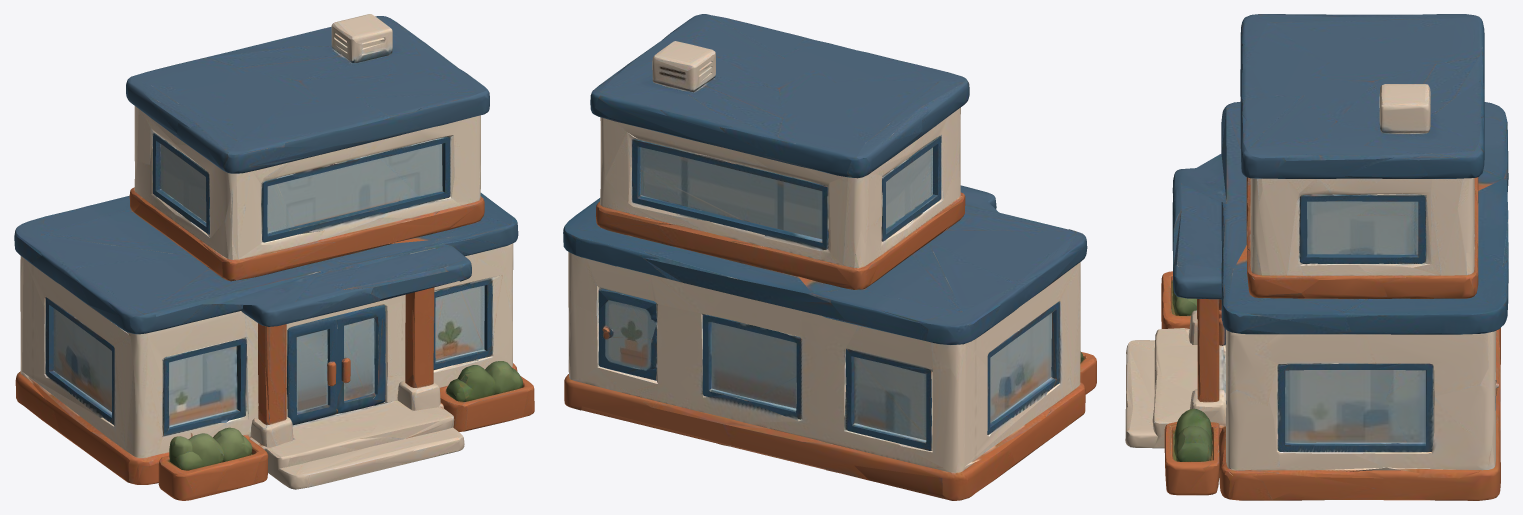
Rendered from realtyDuplex.glb.
3 renders of one model, left to right at view 1: azimuth 30°, elevation 25°; view 2: azimuth 150°, elevation 25°; view 3: azimuth 270°, elevation 25°, orthographic. The views are drawn at different scales.
Visible parts, largest first — view 1: Mesh_0; view 2: Mesh_0; view 3: Mesh_0.
Part boxes in pixels (bbox=[...]): Mesh_0: bbox=[14, 14, 534, 500]; Mesh_0: bbox=[563, 14, 1096, 500]; Mesh_0: bbox=[1125, 14, 1508, 500].
Bounding box in the file's own units: 3.2 × 2.54 × 2.41.
1 material, 1 textured.
